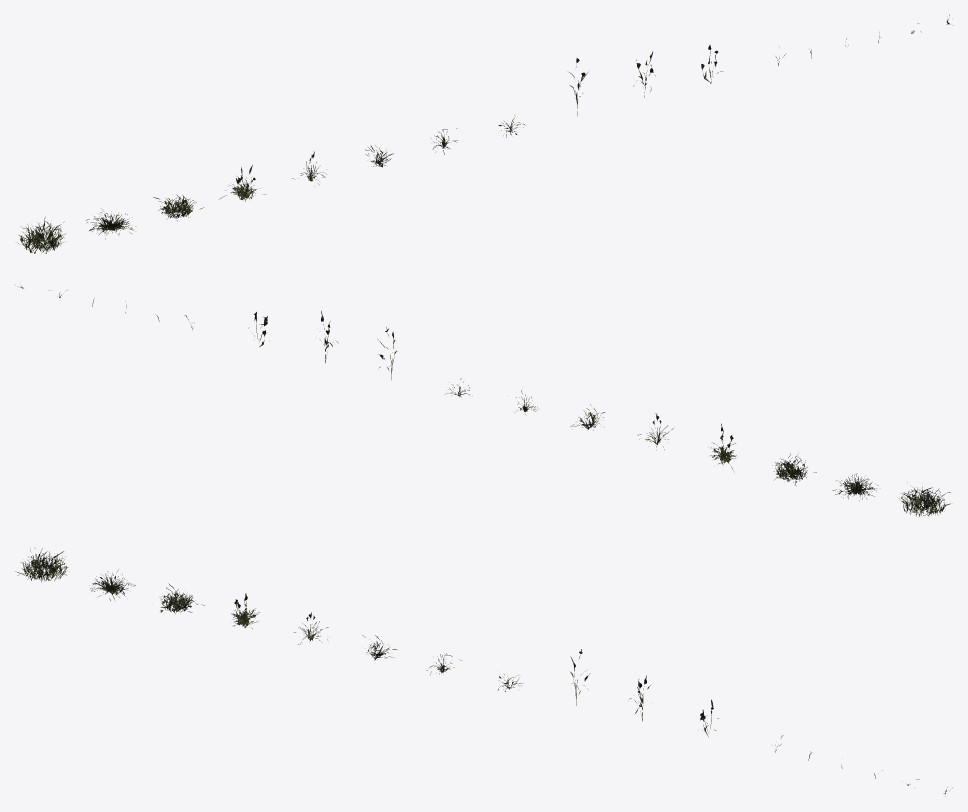
The model's file is grass_medium_01_lod1.glb.
The picture shows the model from 3 angles, top to bottom: view 1: azimuth 30°, elevation 25°; view 2: azimuth 150°, elevation 25°; view 3: azimuth 330°, elevation 25°; orthographic projection.
Visible parts, largest first — view 1: grass_medium_01_large_a_LOD0, grass_medium_01_large_c_LOD0; view 2: grass_medium_01_large_a_LOD0, grass_medium_01_large_c_LOD0; view 3: grass_medium_01_large_a_LOD0.
Boxes of the visible parts, box(x1,y1,x2,y2) form: grass_medium_01_large_a_LOD0: box(18, 217, 65, 253); grass_medium_01_large_c_LOD0: box(153, 194, 203, 221); grass_medium_01_large_a_LOD0: box(899, 485, 950, 516); grass_medium_01_large_c_LOD0: box(772, 453, 816, 486); grass_medium_01_large_a_LOD0: box(15, 548, 68, 581).
Size of the model in its own units: 5.6 by 0.3399 by 0.3032.
1 material, 1 textured.
